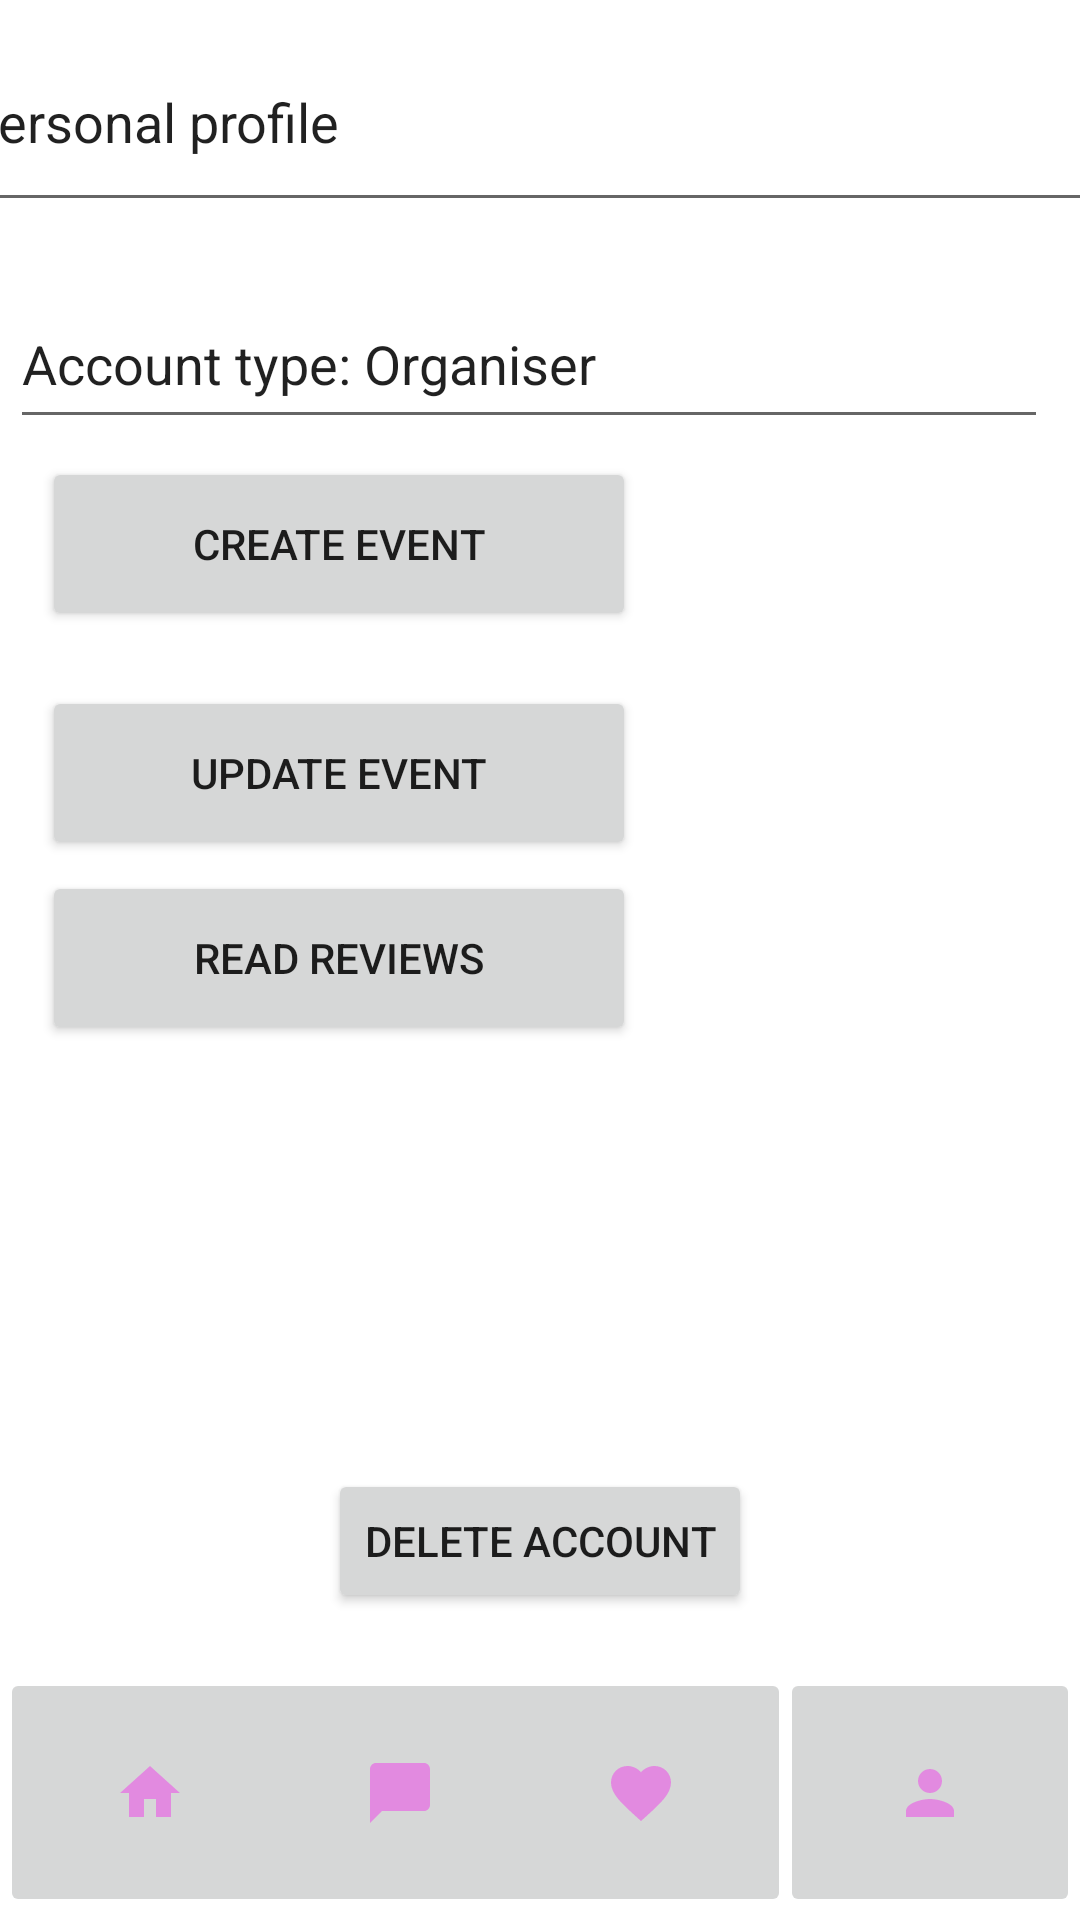

Icons on this 1080*1920 Android screen, each with the point to tap as (x,y):
favourites: (641,1792)
home: (156,1792)
person: (930,1792)
